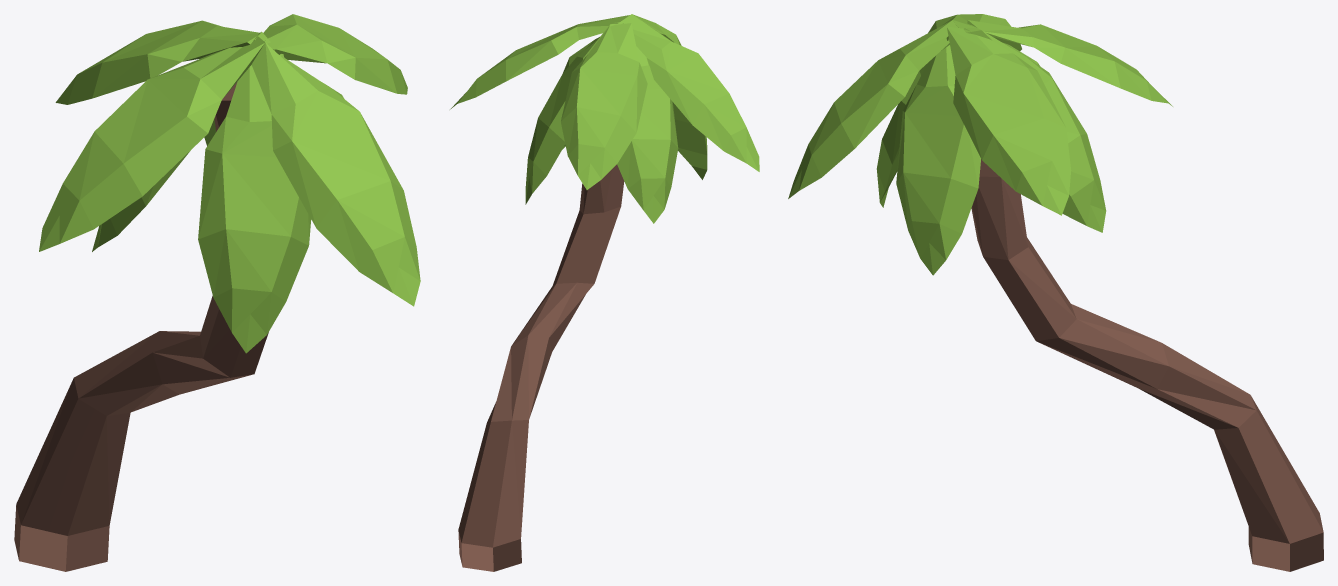
The model's file is palmtree1.obj.
3 views of the same model, side by side, from view 1: azimuth 30°, elevation 25°; view 2: azimuth 150°, elevation 25°; view 3: azimuth 270°, elevation 25° (orthographic). The views are drawn at different scales.
Parts seen in each view (by area): view 1: palm_tree1; view 2: palm_tree1; view 3: palm_tree1.
Part boxes in pixels (x1,y1,x2,y2): palm_tree1: (14,14,420,571); palm_tree1: (450,14,759,571); palm_tree1: (788,14,1323,571).
Bounding box in the file's own units: 0.2315 × 0.3554 × 0.3236.
